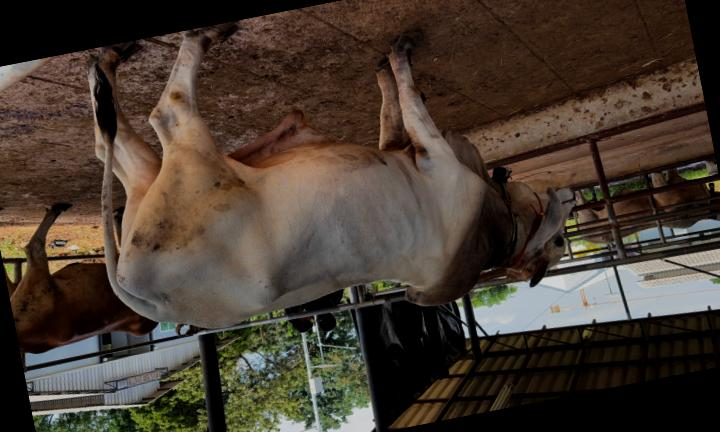Brahman: (88, 20, 572, 327)
